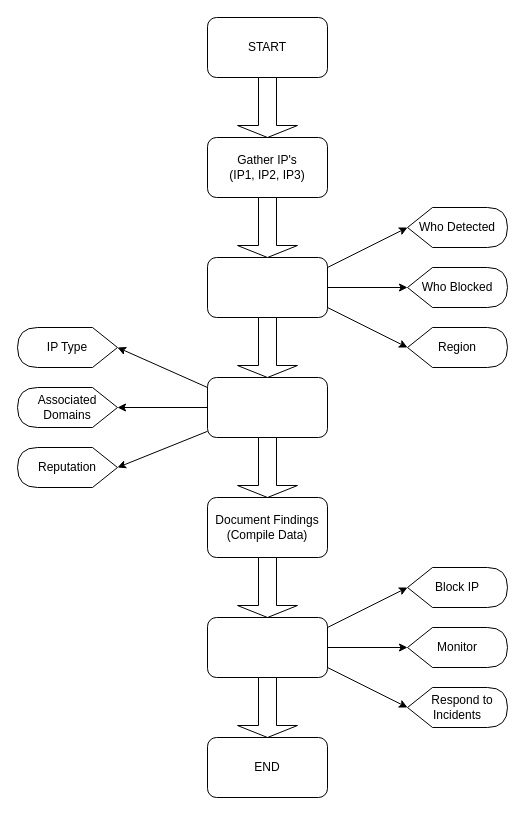
Image size: 525x815. Some labels were removed from this diagram. Each missing label, with the centre of its shape:
"Correlate Additional Data" belongs at (267,407).
"Take Action" belongs at (267,647).
"VirusTotal Check" belongs at (267,287).
